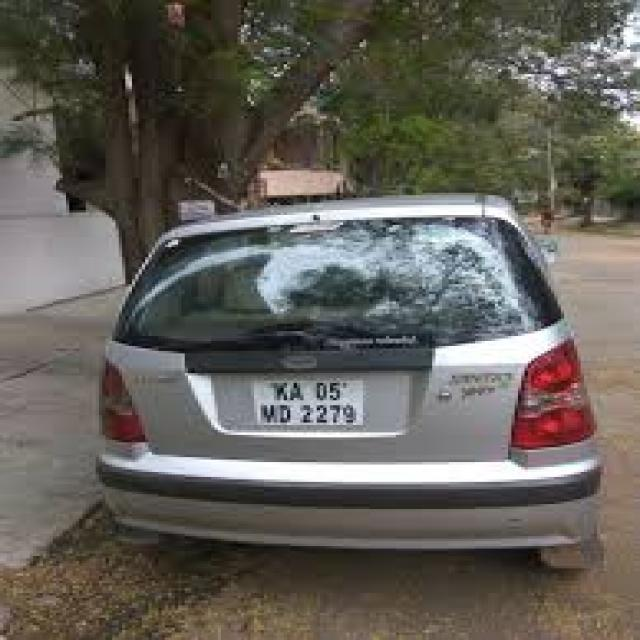Number-Plate: (249, 377, 367, 430)
